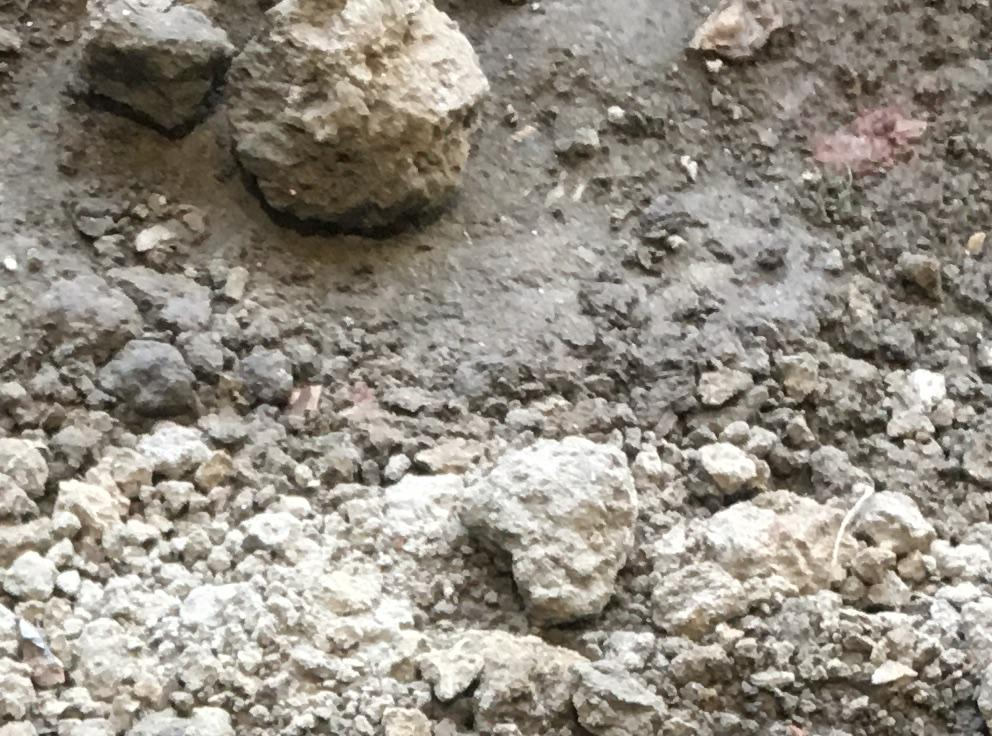block: (229, 1, 485, 227), (454, 434, 638, 622), (70, 1, 237, 138)
